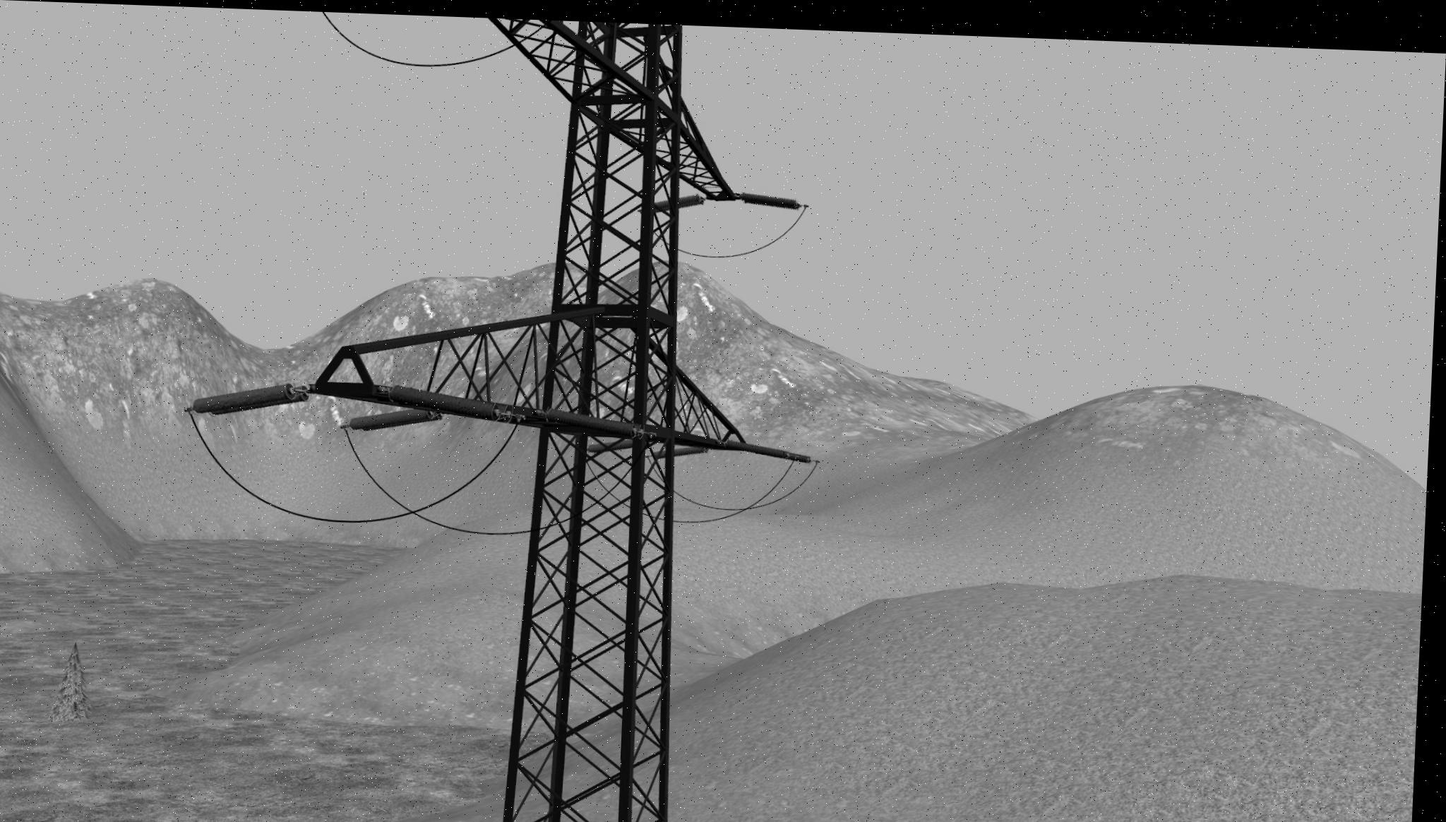tower: (295, 12, 778, 822)
